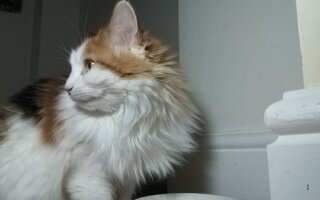clara: (9, 2, 206, 199)
